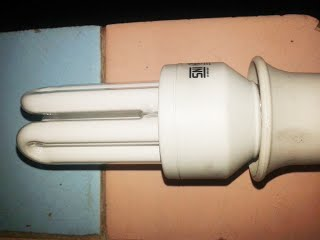Light_bulb: (13, 59, 260, 189)
